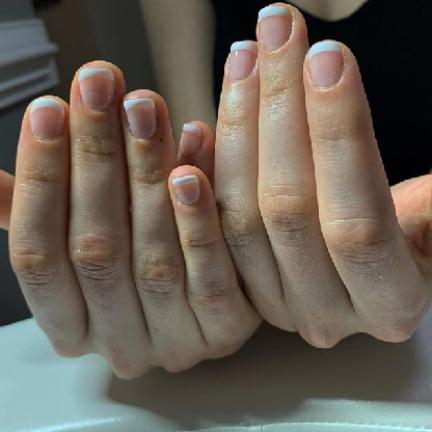Nail: (308, 41, 343, 88), (78, 68, 115, 111), (258, 6, 292, 51), (30, 97, 65, 140), (123, 98, 157, 139), (229, 41, 257, 81), (172, 175, 200, 205), (179, 123, 204, 155)
